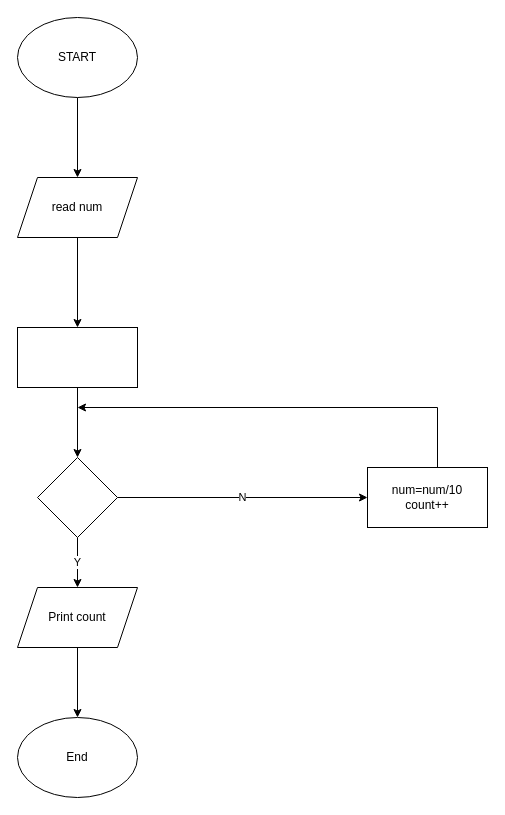
Image size: 505x815. Some labels were removed from this diagram. Here are the shapes that lost their labels. From the top down, the box of each, then its label:
(16, 326, 138, 388): count=0
(36, 456, 118, 538): num<=0
